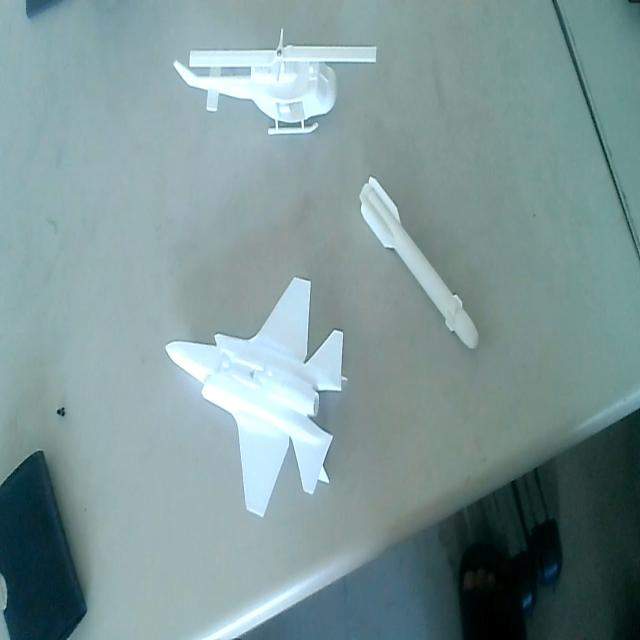Helicopter: (168, 30, 378, 142)
Jet: (161, 276, 348, 524)
Rocket: (356, 168, 483, 355)
